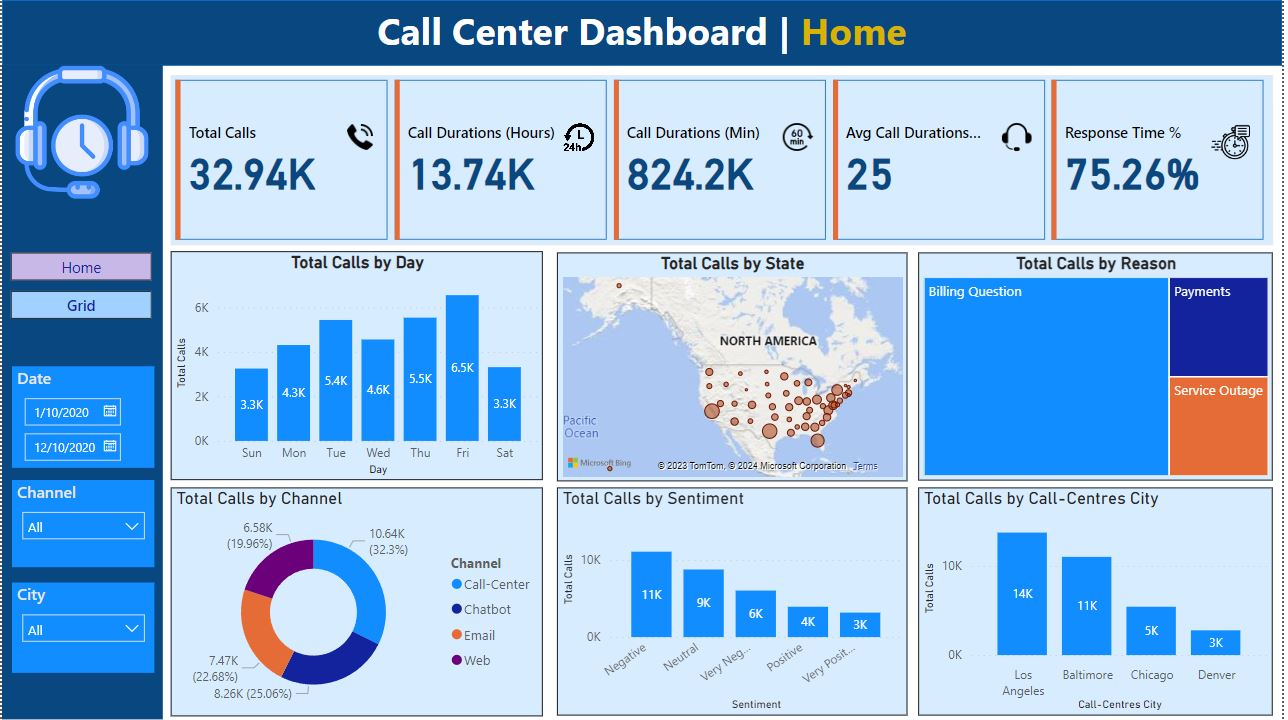

The dashboard page shown, as its layout file describes it:
{"tool":"powerbi","page":{"name":"Home","canvas":[1280,720],"ordinal":0},"visuals":[{"type":"shape","box":[0,0,1280.3,65.9],"z":0},{"type":"shape","box":[0,65.6,161.1,654.4],"z":1000},{"type":"cardVisual","fields":{"Data":["Call Center_Call Center.Total Calls","Call Center_Call Center.Call Durations (Hours)","Call Center_Call Center.Call Durations (Min)","Call Center_Call Center.Avg Call Durations (Min)","Call Center_Call Center.Response Time %"]},"box":[168.9,74.4,1102.2,170],"z":1001},{"type":"textbox","box":[0,0,1279.8,65.7],"z":1002},{"type":"columnChart","fields":{"Category":["Call Center_Call Center.Day"],"Y":["Call Center_Call Center.Total Calls"]},"box":[168.9,251.1,372.2,228.9],"z":1003},{"type":"map","fields":{"Category":["Call Center_Call Center.State"],"Size":["Call Center_Call Center.Total Calls"]},"box":[555.6,252.2,350,228.9],"z":1004},{"type":"treemap","fields":{"Values":["Call Center_Call Center.Total Calls"],"Group":["Call Center_Call Center.Reason"]},"box":[916.7,252.2,354.4,227.8],"z":1005},{"type":"donutChart","fields":{"Category":["Call Center_Call Center.Channel"],"Y":["Call Center_Call Center.Total Calls"]},"box":[168.9,487.8,372.2,228.9],"z":1006},{"type":"columnChart","fields":{"Category":["Call Center_Call Center.Sentiment"],"Y":["Call Center_Call Center.Total Calls"]},"box":[555.6,487.8,350,227.8],"z":1007},{"type":"columnChart","fields":{"Y":["Call Center_Call Center.Total Calls"],"Category":["Call Center_Call Center.Call-Centres City"]},"box":[916.7,487.8,354.4,227.8],"z":1008},{"type":"slicer","title":"Date","fields":{"Values":["Call Center_Call Center.Call Timestamp"]},"box":[10,366.2,142.5,101.2],"z":1009},{"type":"slicer","title":"Channel","fields":{"Values":["Call Center_Call Center.Channel"]},"box":[10,480,142.5,87.5],"z":1010},{"type":"slicer","title":"City","fields":{"Values":["Call Center_Call Center.City"]},"box":[10,582.5,142.5,90],"z":1011},{"type":"image","box":[8.8,56.2,142.5,151.2],"z":1012},{"type":"pageNavigator","box":[8.8,252.5,141.2,66.2],"z":1013}]}

Visuals, with their boxes in screenshot pixels (x1, y1, x2, y2), scaled from the page's 1280x720 canvas onto the 1288x720 screenshot:
shape: <bbox>0, 0, 1287, 66</bbox>
shape: <bbox>0, 66, 162, 719</bbox>
cardVisual - Call Center_Call Center.Total Calls x Call Center_Call Center.Call Durations (Hours): <bbox>170, 74, 1279, 244</bbox>
textbox: <bbox>0, 0, 1287, 66</bbox>
columnChart - Call Center_Call Center.Day x Call Center_Call Center.Total Calls: <bbox>170, 251, 544, 480</bbox>
map - Call Center_Call Center.State x Call Center_Call Center.Total Calls: <bbox>559, 252, 911, 481</bbox>
treemap - Call Center_Call Center.Total Calls x Call Center_Call Center.Reason: <bbox>922, 252, 1279, 480</bbox>
donutChart - Call Center_Call Center.Channel x Call Center_Call Center.Total Calls: <bbox>170, 488, 544, 717</bbox>
columnChart - Call Center_Call Center.Sentiment x Call Center_Call Center.Total Calls: <bbox>559, 488, 911, 716</bbox>
columnChart - Call Center_Call Center.Total Calls x Call Center_Call Center.Call-Centres City: <bbox>922, 488, 1279, 716</bbox>
"Date" slicer: <bbox>10, 366, 153, 467</bbox>
"Channel" slicer: <bbox>10, 480, 153, 568</bbox>
"City" slicer: <bbox>10, 582, 153, 672</bbox>
image: <bbox>9, 56, 152, 207</bbox>
pageNavigator: <bbox>9, 252, 151, 319</bbox>
